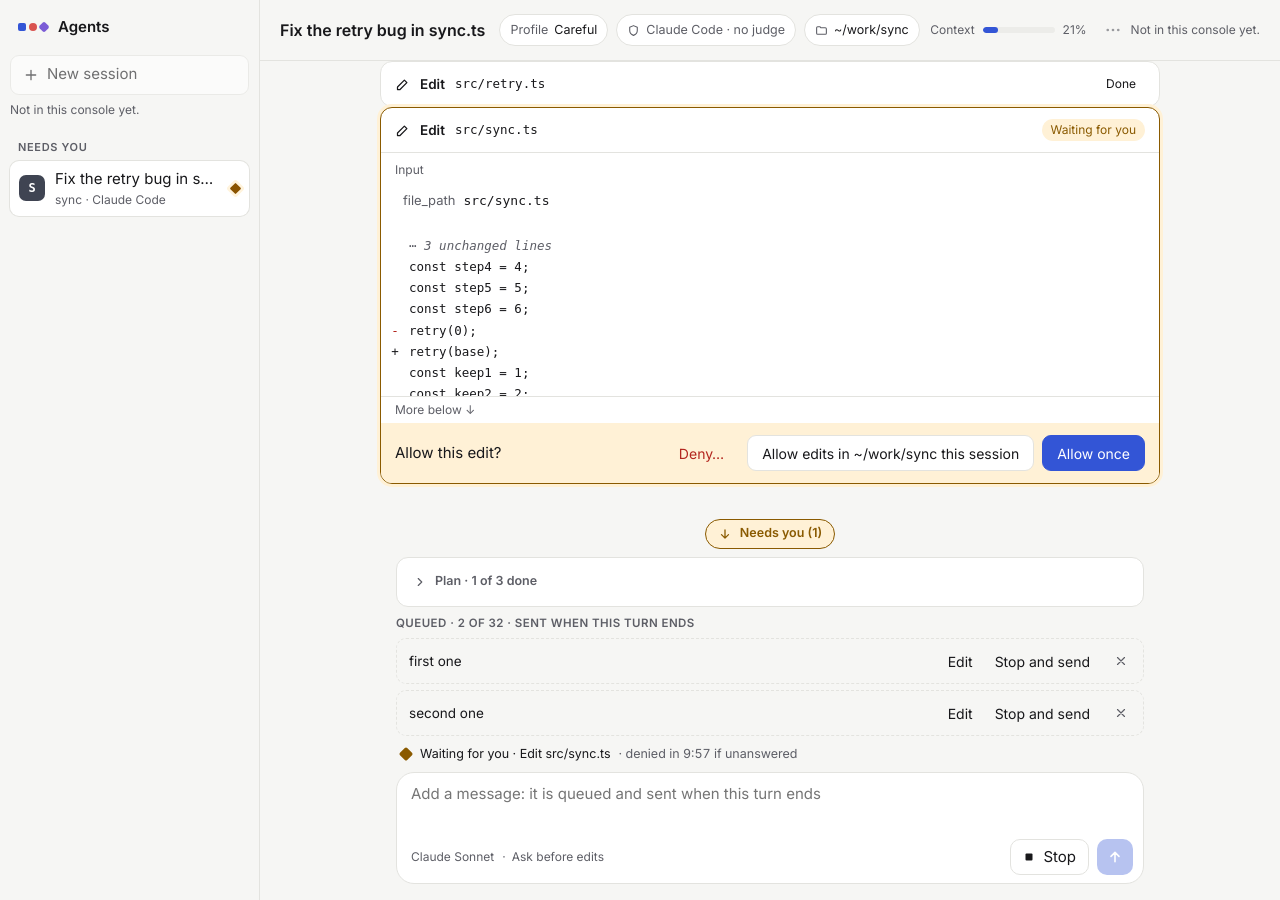
Test: S36-6 › ac2_edit_with_typed_text_changes_nothing
(page scrolled)
Check: the button "Needs you (1)" is shown, box [705, 519, 835, 549]
Type "typing" into the text box labelled "message". click: (772, 807)
box: [411, 783, 1133, 831]
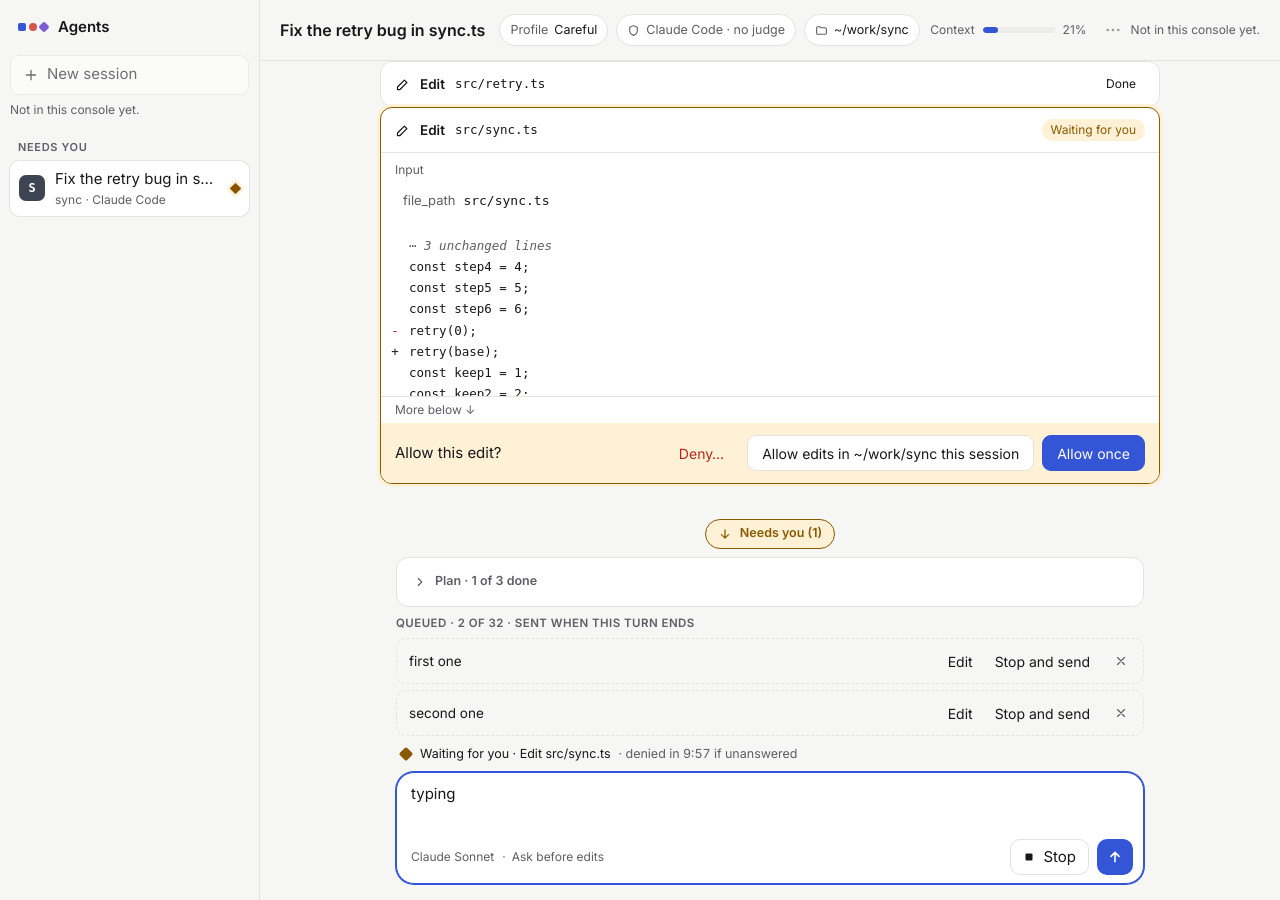
Click the button with aria-label "Edit queued message 1". click: (960, 661)
box: [939, 643, 982, 679]
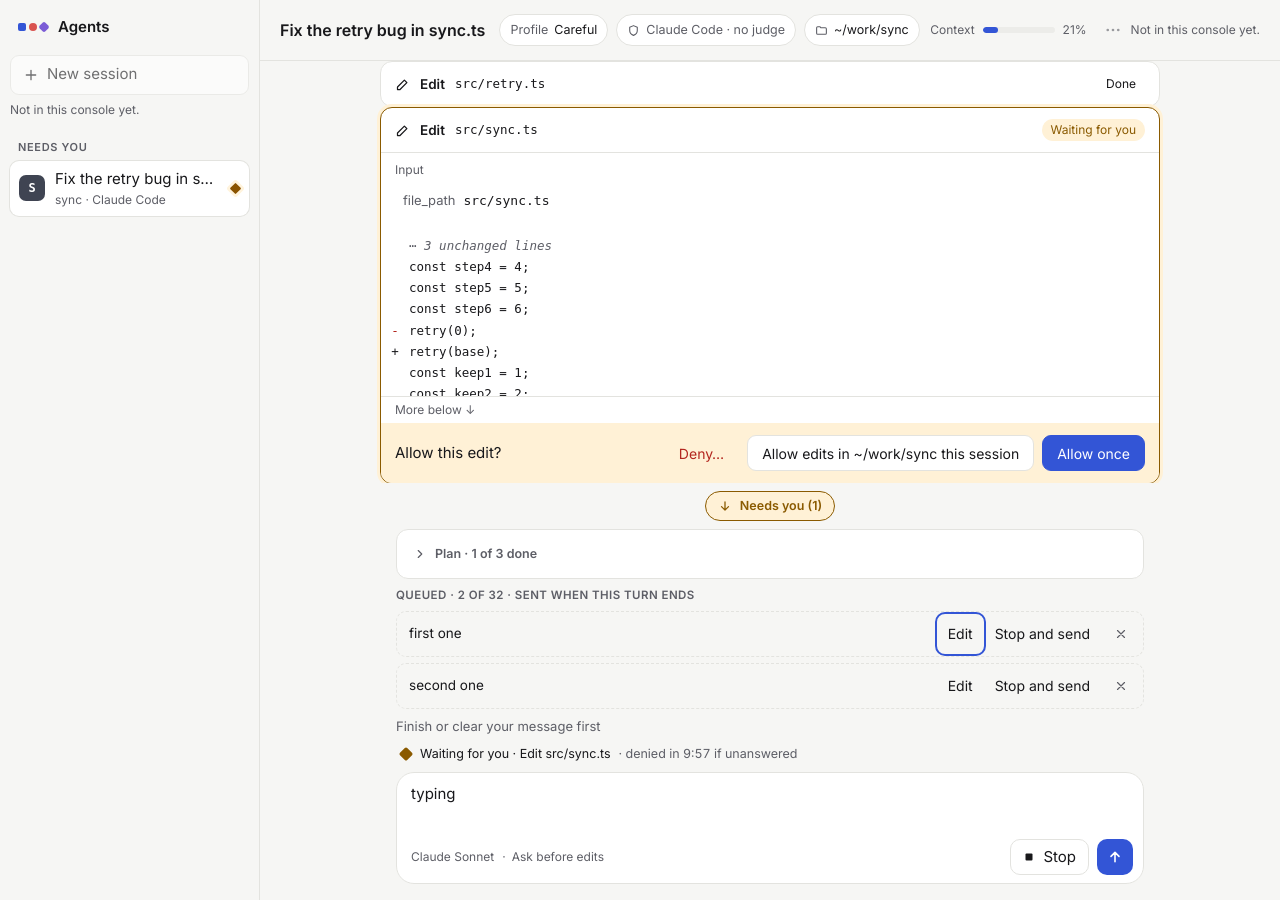
Check: the message with class "wa-queue-note" reads "Finish or clear your message first", box [396, 718, 601, 734]
